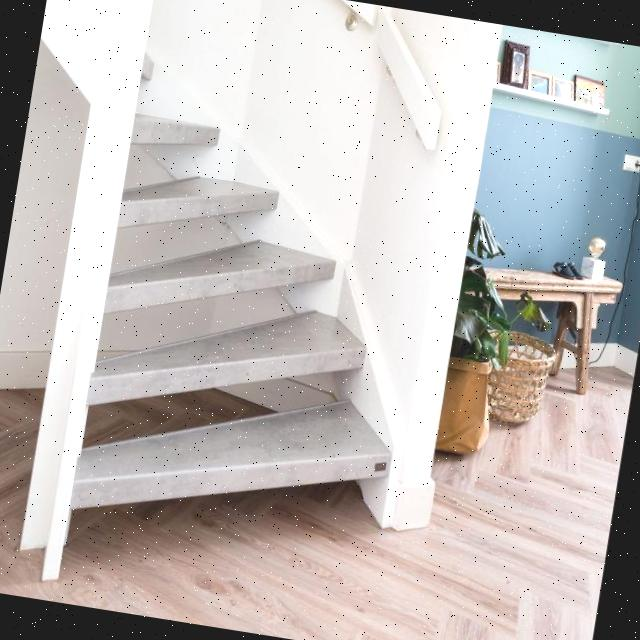stairs: (18, 41, 450, 626)
